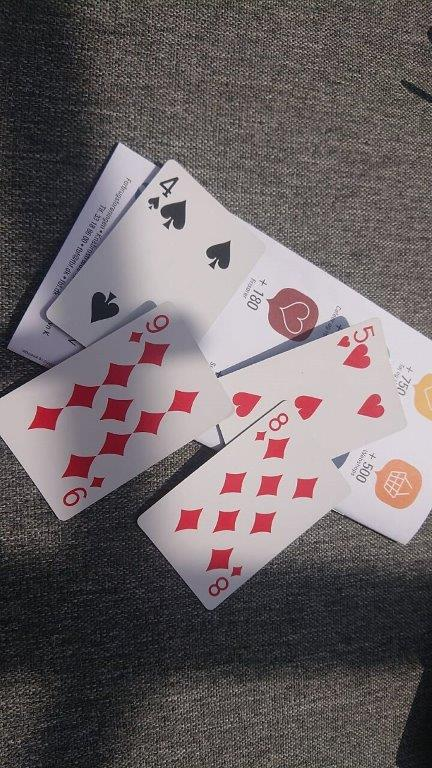4S: (144, 173, 181, 214)
5H: (333, 323, 378, 350)
8D: (249, 407, 291, 444)
9D: (124, 310, 171, 349)
